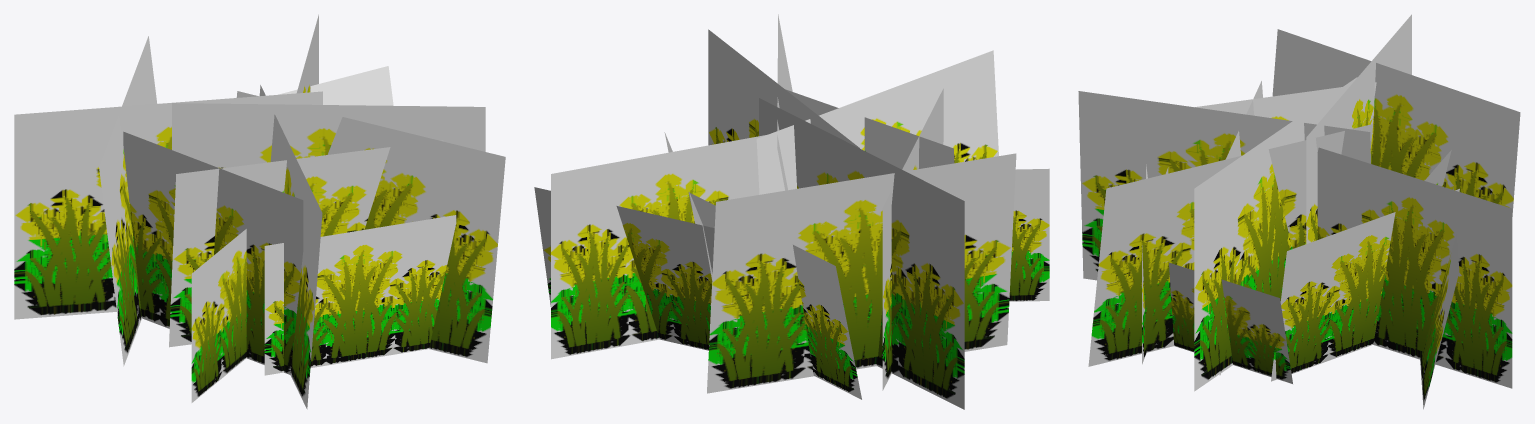
Rendered from mid_grass_11.gltf.
3 renders of one model, left to right at view 1: azimuth 30°, elevation 25°; view 2: azimuth 150°, elevation 25°; view 3: azimuth 270°, elevation 25°, orthographic. The views are drawn at different scales.
Visible parts, largest first — view 1: default; view 2: default; view 3: default.
Boxes of the visible parts, left/top/right/bottom form: default: left=14, top=14, right=505, bottom=409; default: left=534, top=14, right=1049, bottom=409; default: left=1078, top=14, right=1520, bottom=409.
Size of the model in its own units: 1.16 by 0.5771 by 1.13.
Materials: 1 (1 with a texture image).
